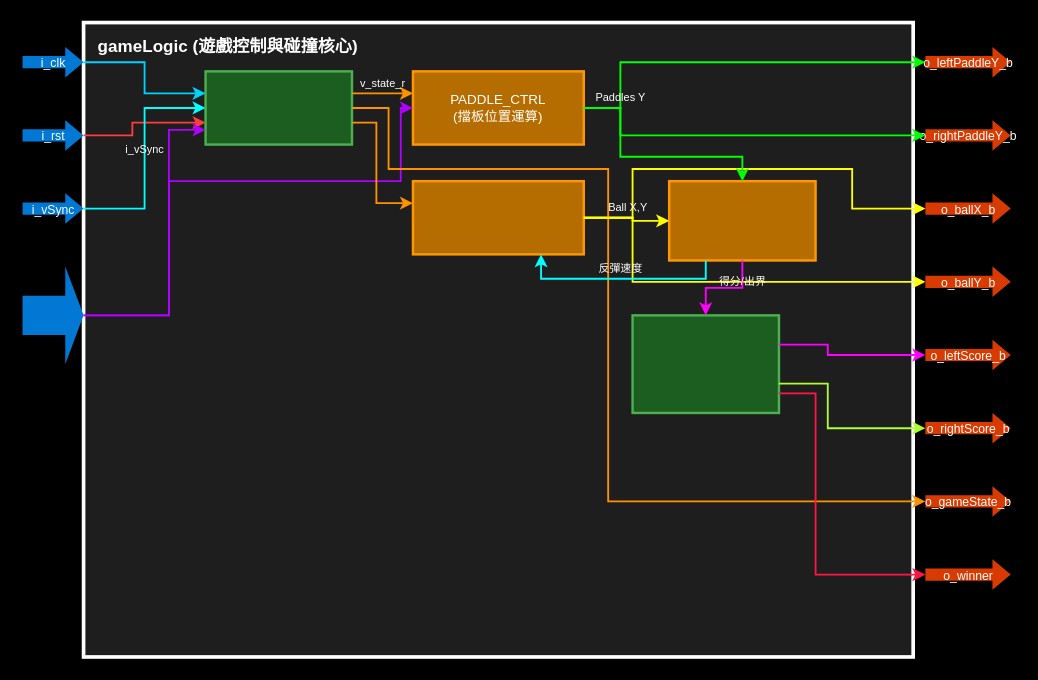
The diagram is 1038 pixels wide and 680 high, and some of its shapes have lost their labels. The centre of each missing label's shape, as x and y in pixels:
"BALL_CTRL (球體物理運算)" belongs at point 497,217.
"COLLISION_DET (碰撞出界偵測)" belongs at point 741,220.
"FSM_REG (狀態暫存器) v_state_r" belongs at point 278,107.
"i_leftUp i_leftDown i_rightUp i_rightDown" belongs at point 52,315.
"SCORE_REG (計分暫存器) v_leftScore_r v_rightScore_r" belongs at point 705,364.
